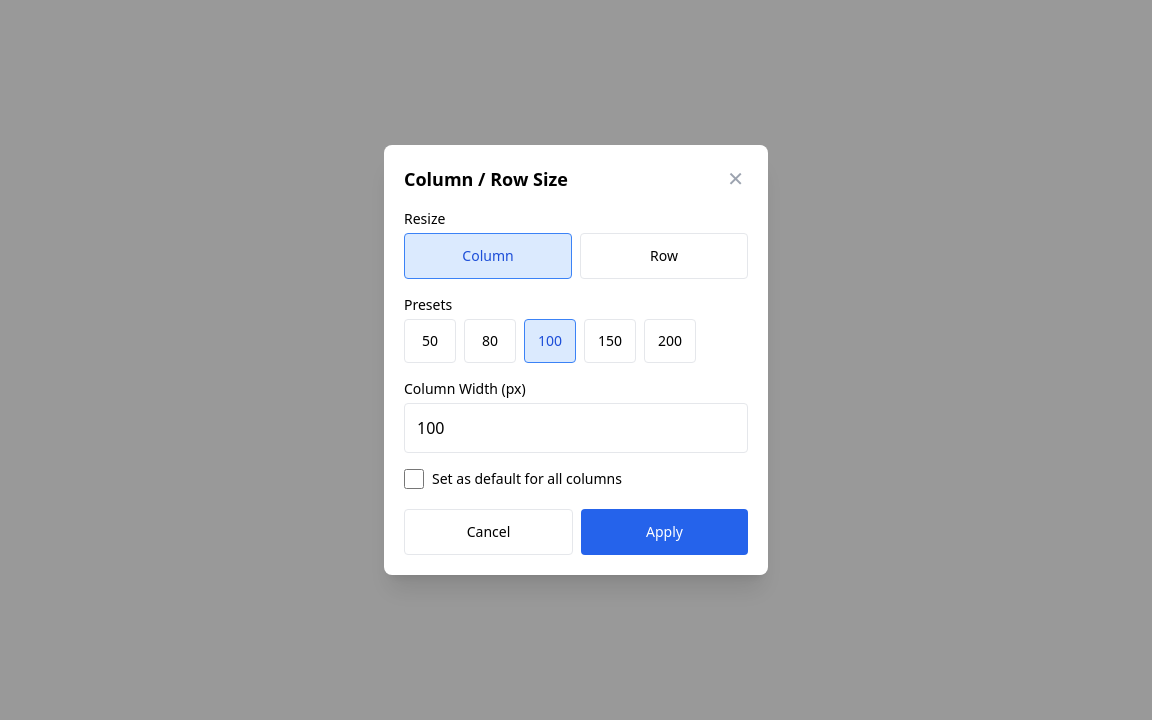
Scenario: ColumnRowSizeModal › preset button sets the size value
Click the button "150": (610, 341) [584,319,636,363]
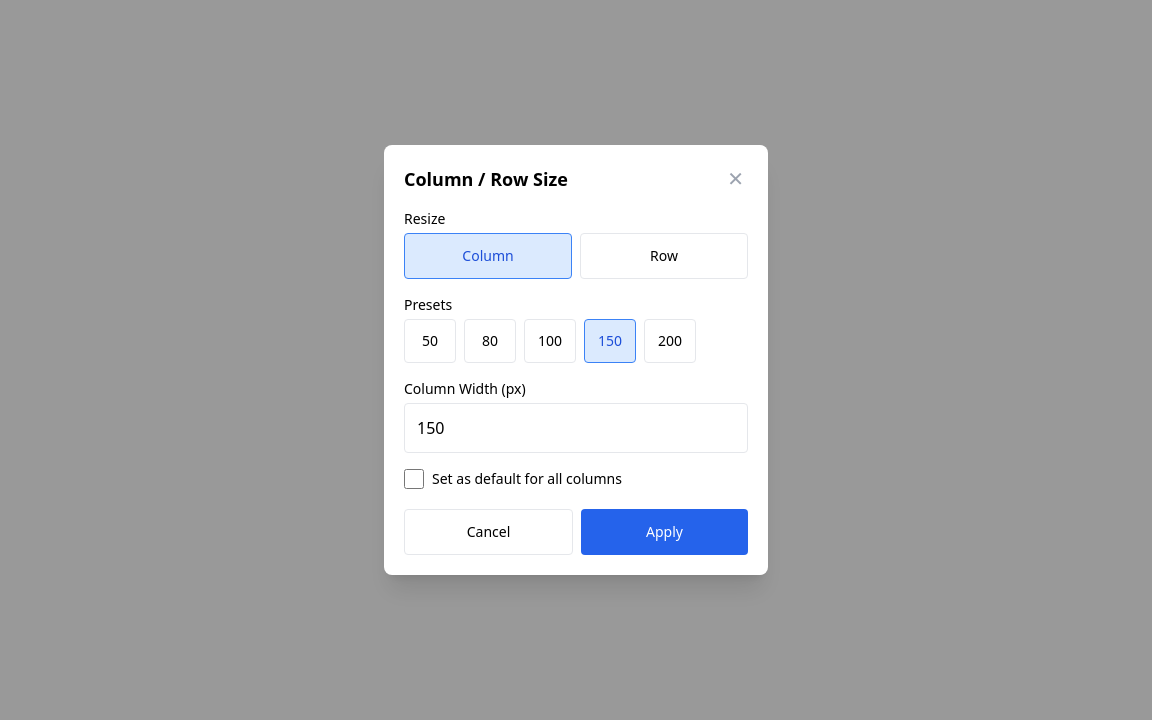
Expected: the number field labelled "Column Width (px)" holds "150", [404,403,748,453]
